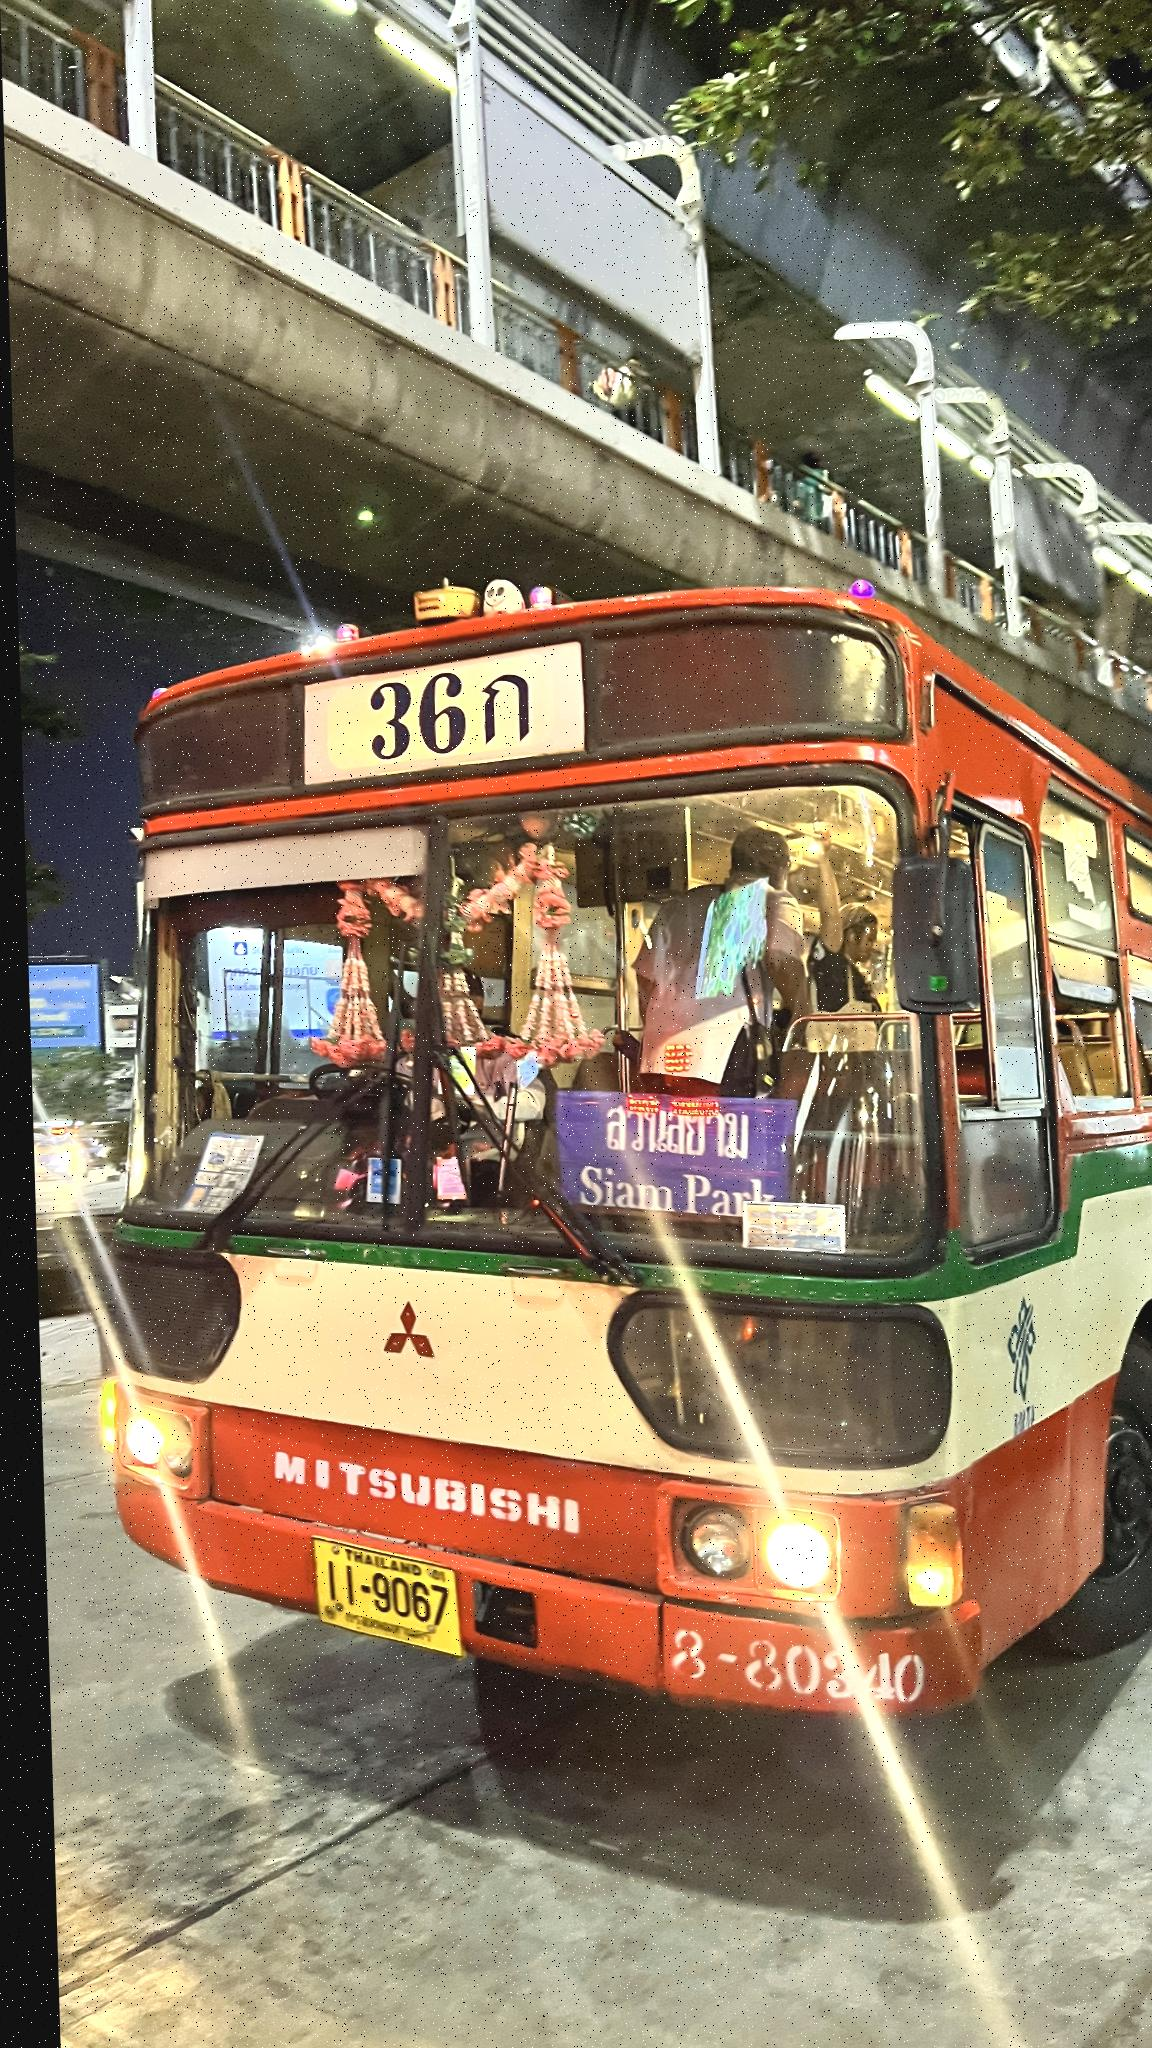BMTA-bus: (66, 587, 1152, 1726)
Bus Line Number: (331, 670, 544, 751)
Bus Side Number: (640, 1620, 921, 1709)
Destination Sign: (549, 1090, 788, 1232)
